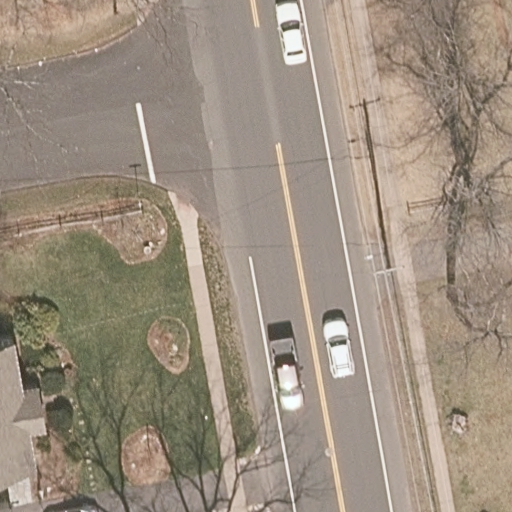DT: (364, 235, 397, 278)
